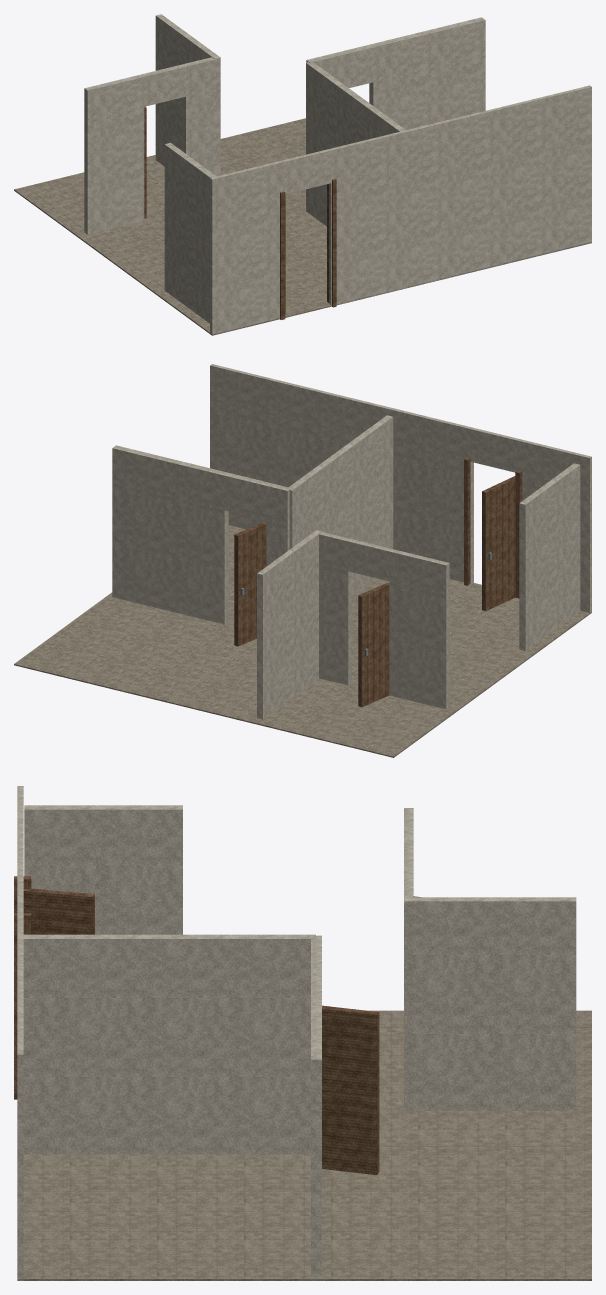
File: PZ_Midrise_UnitLayout_Flex_D.glb
3 views of the same model, one above another, from view 1: azimuth 30°, elevation 25°; view 2: azimuth 150°, elevation 25°; view 3: azimuth 270°, elevation 25° (orthographic). The views are drawn at different scales.
Parts seen in each view (by area): view 1: Flex_D_CorridorEntryWall_TRUE_0p90m_OPENING, Flex_D_FloorFinish, Flex_D_FlexibleOfficePartition, Flex_D_BedroomDivider, Flex_D_BathSide, Flex_D_BedroomSide, Flex_D_FlexibleOfficeSide, Flex_D_EntryDoorCasingsR, Flex_D_EntryDoorCasings; view 2: Flex_D_FloorFinish, Flex_D_CorridorEntryWall_TRUE_0p90m_OPENING, Flex_D_BedroomDivider, Flex_D_FlexibleOfficePartition, Flex_D_BedroomSide, Flex_D_BathSide, Flex_D_FlexibleOfficeSide, Flex_D_ApartmentEntry_Leaf, Flex_D_FlexRoom_Leaf, Flex_D_Bedroom_Leaf, Flex_D_EntryDoorCasingsR, Flex_D_EntryDoorCasings; view 3: Flex_D_FloorFinish, Flex_D_BedroomSide, Flex_D_FlexibleOfficeSide, Flex_D_BathSide, Flex_D_Bedroom_Leaf, Flex_D_BedroomDivider, Flex_D_CorridorEntryWall_TRUE_0p90m_OPENING, Flex_D_ApartmentEntry_Leaf, Flex_D_FlexibleOfficePartition, Flex_D_EntryDoorCasingsR.
Part boxes in pixels (<box>): Flex_D_CorridorEntryWall_TRUE_0p90m_OPENING: <box>210,85,591,334</box>; Flex_D_FloorFinish: <box>14,118,591,335</box>; Flex_D_FlexibleOfficePartition: <box>84,57,220,234</box>; Flex_D_BedroomDivider: <box>306,17,485,129</box>; Flex_D_BathSide: <box>164,142,216,323</box>; Flex_D_BedroomSide: <box>306,62,405,226</box>; Flex_D_FlexibleOfficeSide: <box>155,14,220,175</box>; Flex_D_EntryDoorCasingsR: <box>327,179,336,307</box>; Flex_D_EntryDoorCasings: <box>280,191,285,319</box>; Flex_D_FloorFinish: <box>14,525,591,757</box>; Flex_D_CorridorEntryWall_TRUE_0p90m_OPENING: <box>210,364,591,612</box>; Flex_D_BedroomDivider: <box>112,445,291,624</box>; Flex_D_FlexibleOfficePartition: <box>319,532,449,709</box>; Flex_D_BedroomSide: <box>289,415,393,595</box>; Flex_D_BathSide: <box>519,463,580,650</box>; Flex_D_FlexibleOfficeSide: <box>257,530,321,719</box>; Flex_D_ApartmentEntry_Leaf: <box>482,476,515,611</box>; Flex_D_FlexRoom_Leaf: <box>358,582,389,707</box>; Flex_D_Bedroom_Leaf: <box>234,522,266,646</box>; Flex_D_EntryDoorCasingsR: <box>464,457,473,585</box>; Flex_D_EntryDoorCasings: <box>515,470,522,598</box>; Flex_D_FloorFinish: <box>17,1010,591,1280</box>; Flex_D_BedroomSide: <box>23,934,315,1153</box>; Flex_D_FlexibleOfficeSide: <box>405,897,576,1110</box>; Flex_D_BathSide: <box>24,805,182,934</box>; Flex_D_Bedroom_Leaf: <box>322,1005,379,1174</box>; Flex_D_BedroomDivider: <box>311,935,321,1275</box>; Flex_D_CorridorEntryWall_TRUE_0p90m_OPENING: <box>17,786,23,1280</box>; Flex_D_ApartmentEntry_Leaf: <box>23,888,94,934</box>; Flex_D_FlexibleOfficePartition: <box>404,808,413,1110</box>; Flex_D_EntryDoorCasingsR: <box>14,913,31,1099</box>.
Bounding box in the file's own units: 7.3 × 2.87 × 6.64.
Materials: 4 (4 with a texture image).
